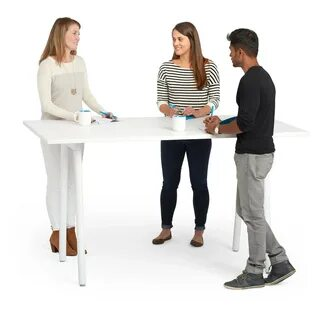awake: (223, 27, 298, 289), (152, 21, 220, 248), (37, 17, 98, 257)
